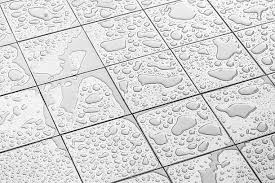Wet-floor: (2, 1, 275, 183)
